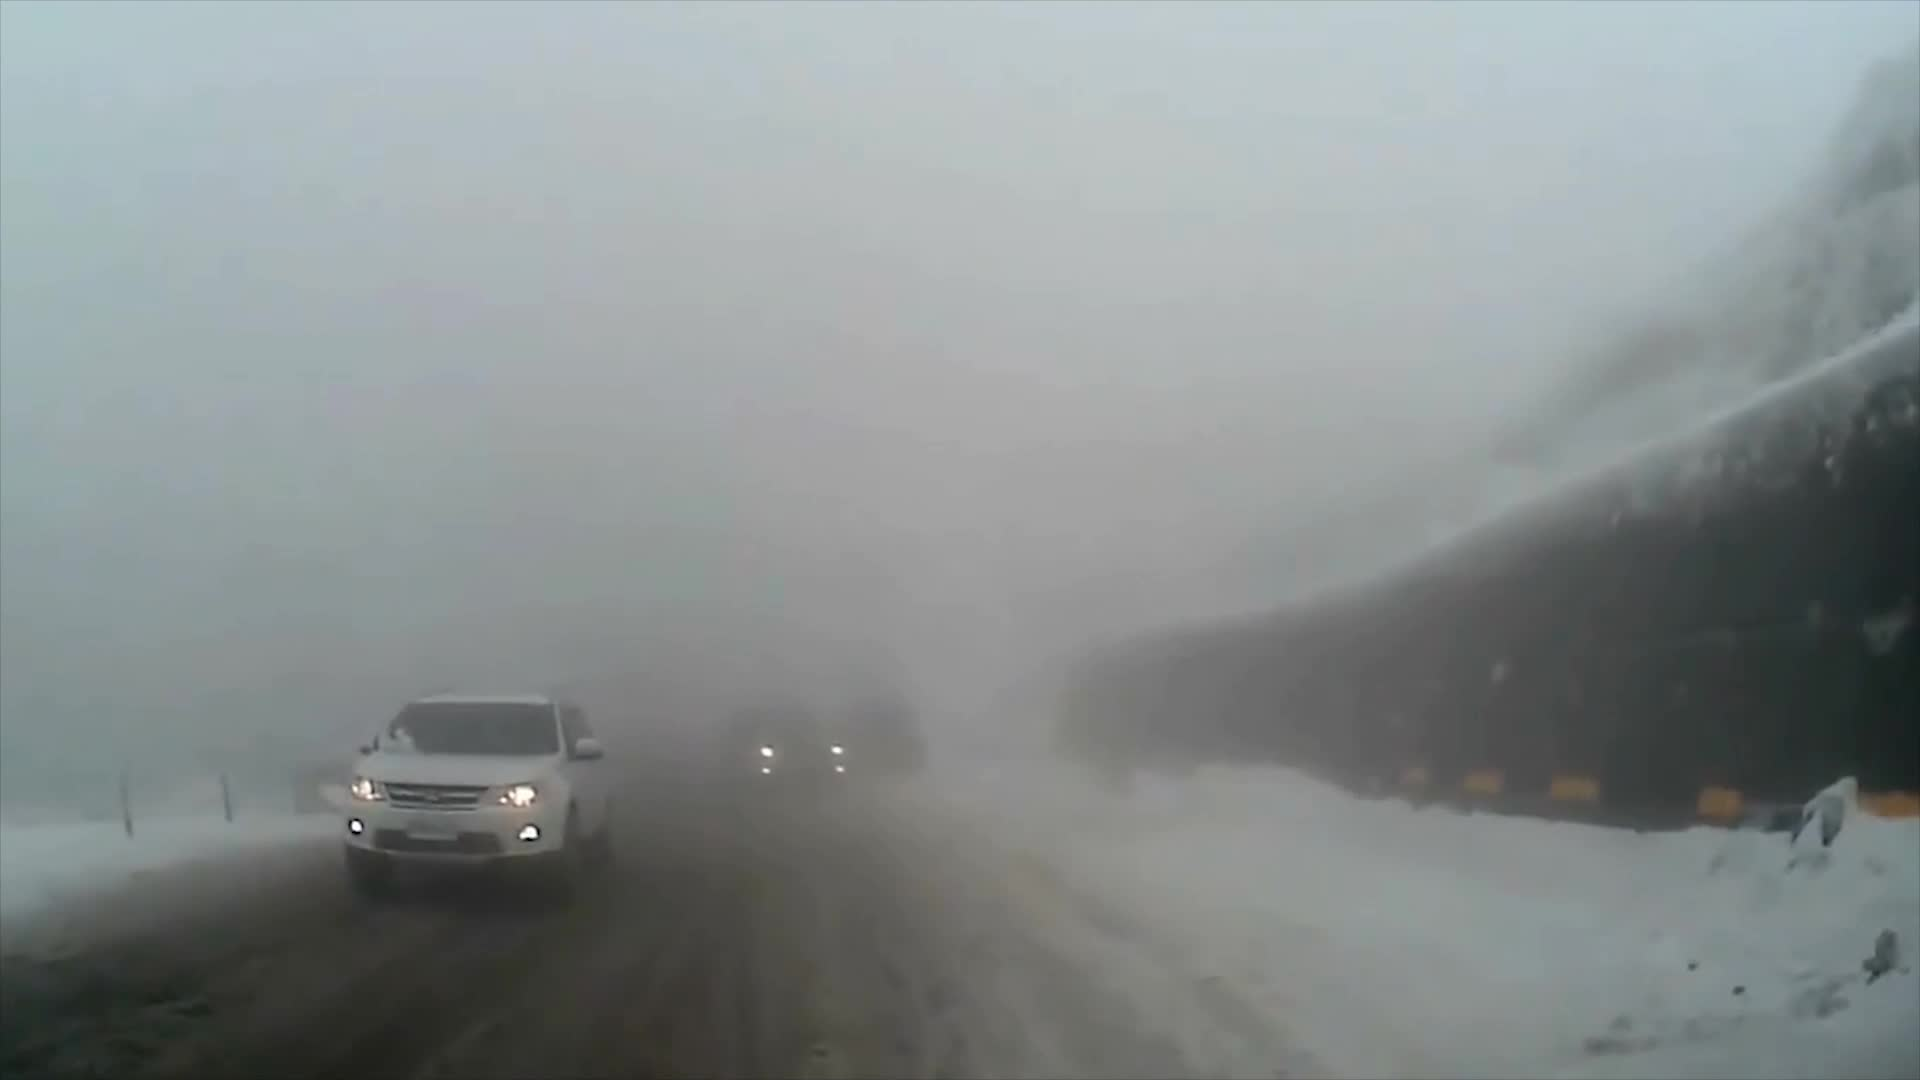vehicle: (332, 682, 615, 906), (715, 699, 848, 798)
